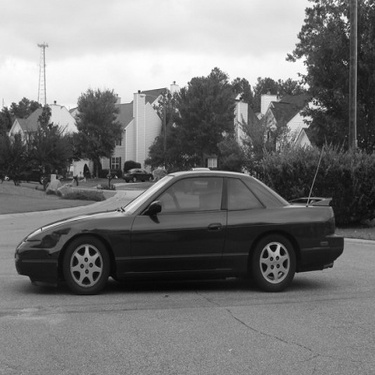car: (9, 152, 352, 298), (108, 164, 159, 185)
